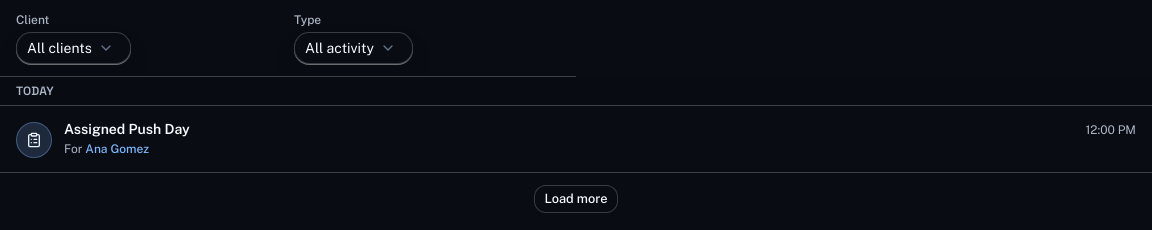
Test: MyActivityFeed — filtering › REPLACES the rows rather than appending them
Click the dropdown labelled "All clients".
click(73, 48)  # box [16,32,131,64]
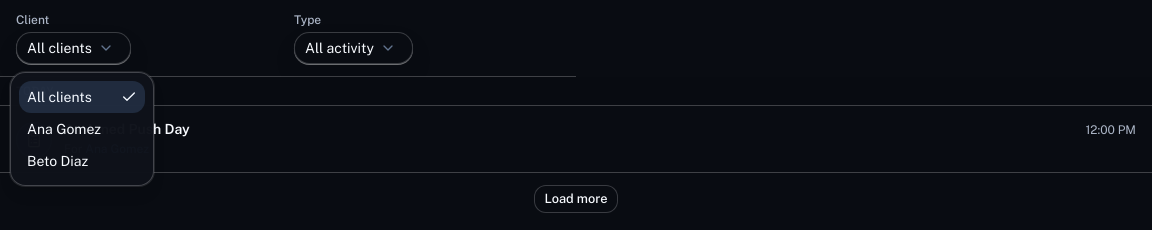
Click the option "Beto Diaz".
click(58, 161)  # box [27,153,88,169]
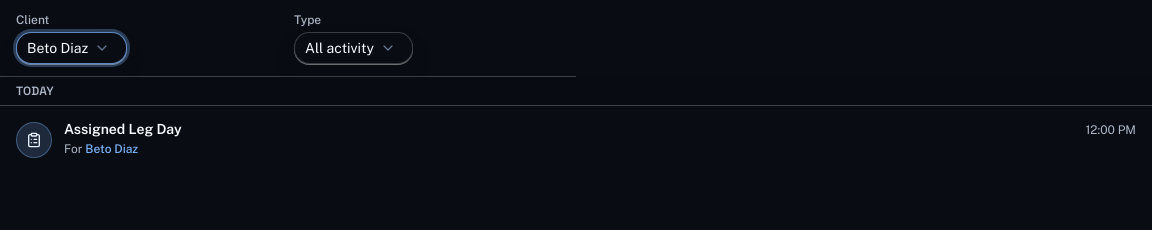
Expected: the text "Assigned Push Day" is gone
Expected: the text "Assigned Leg Day" is shown, [64,121,182,137]
